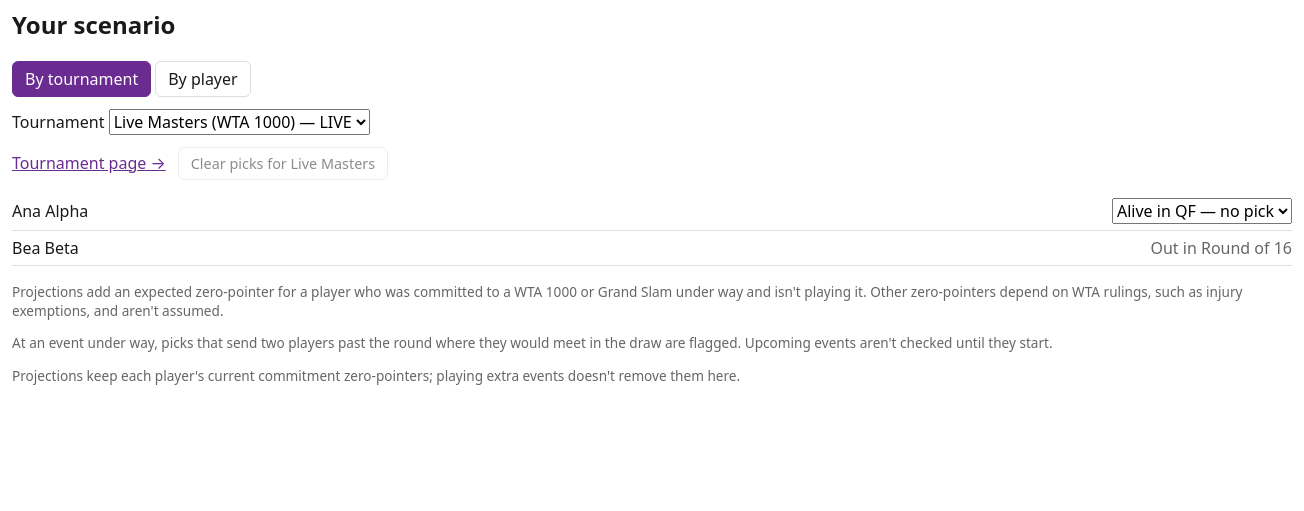
ScenarioEditor › entry lists › lists entered players first, then the rest under a heading
Select "Next Open (WTA 500)" in the dropdown labelled "Tournament" at (239,122), box [109, 109, 370, 135]
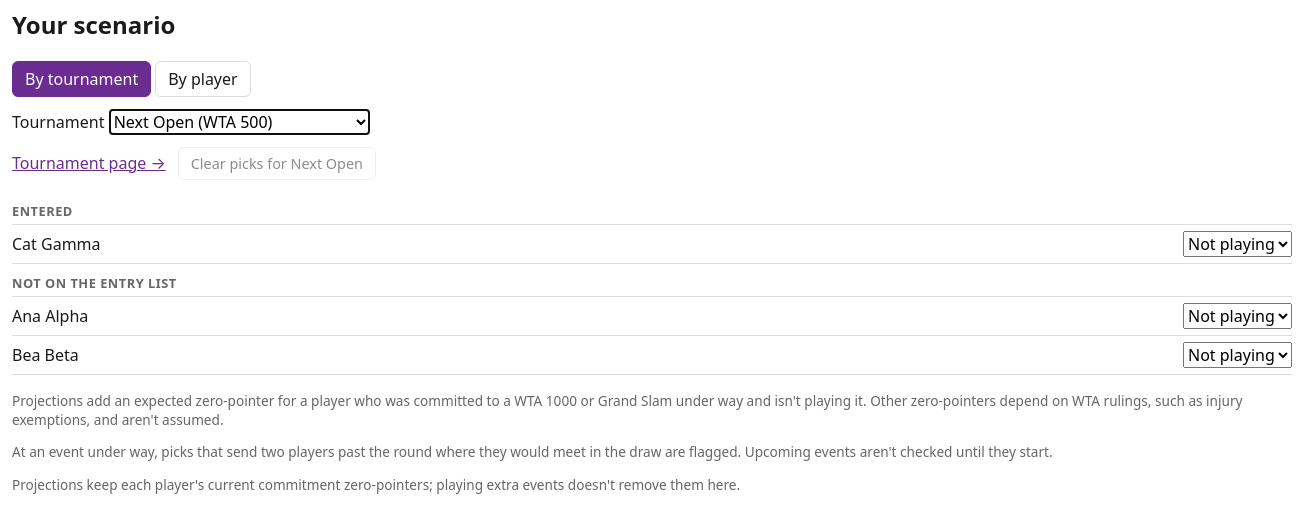
Result: the list item "Entered" is shown at [12, 192, 1292, 225]
Result: the list item "Cat Gamma" is shown at [12, 225, 1292, 264]
Result: the list item "Not on the entry list" is shown at [12, 264, 1292, 297]
